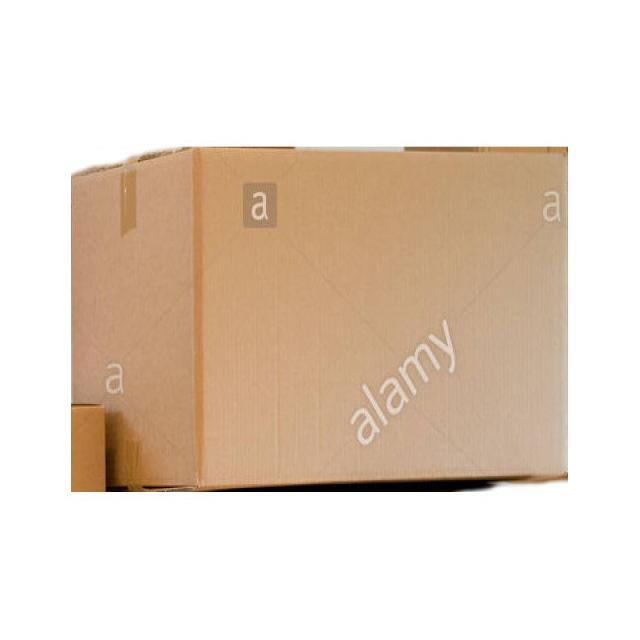Cardboard: (72, 140, 568, 494)
